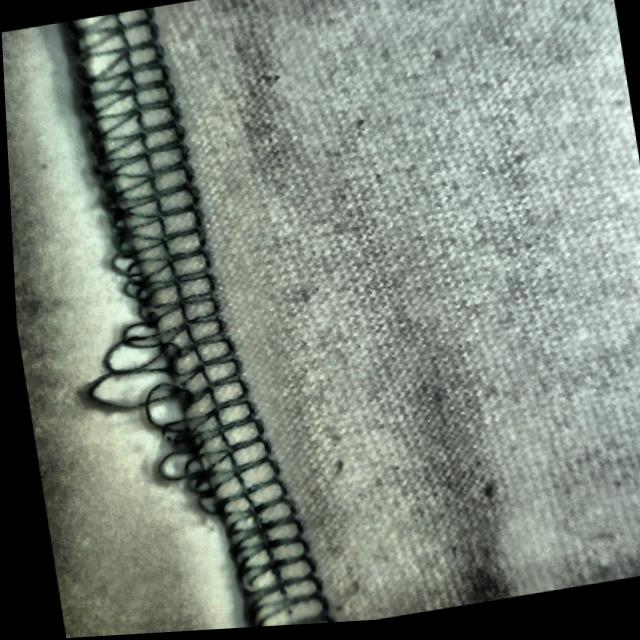Stitch: (57, 219, 279, 538)
